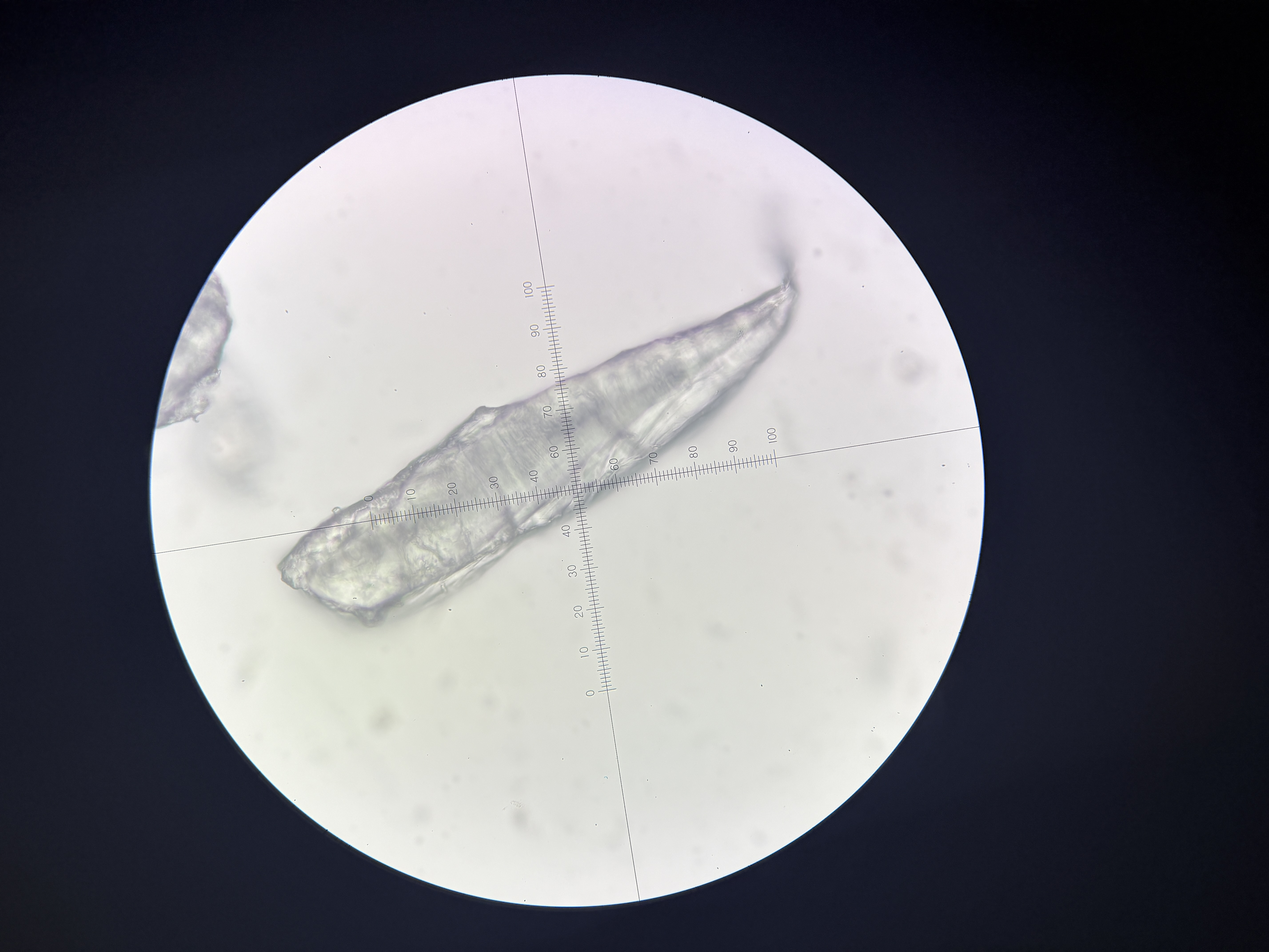microplastic: (277, 268, 804, 629), (151, 270, 233, 429)
